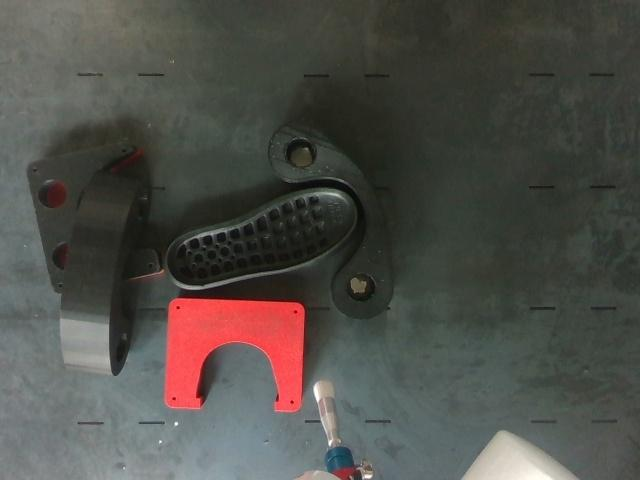shoes: (168, 187, 356, 286)
